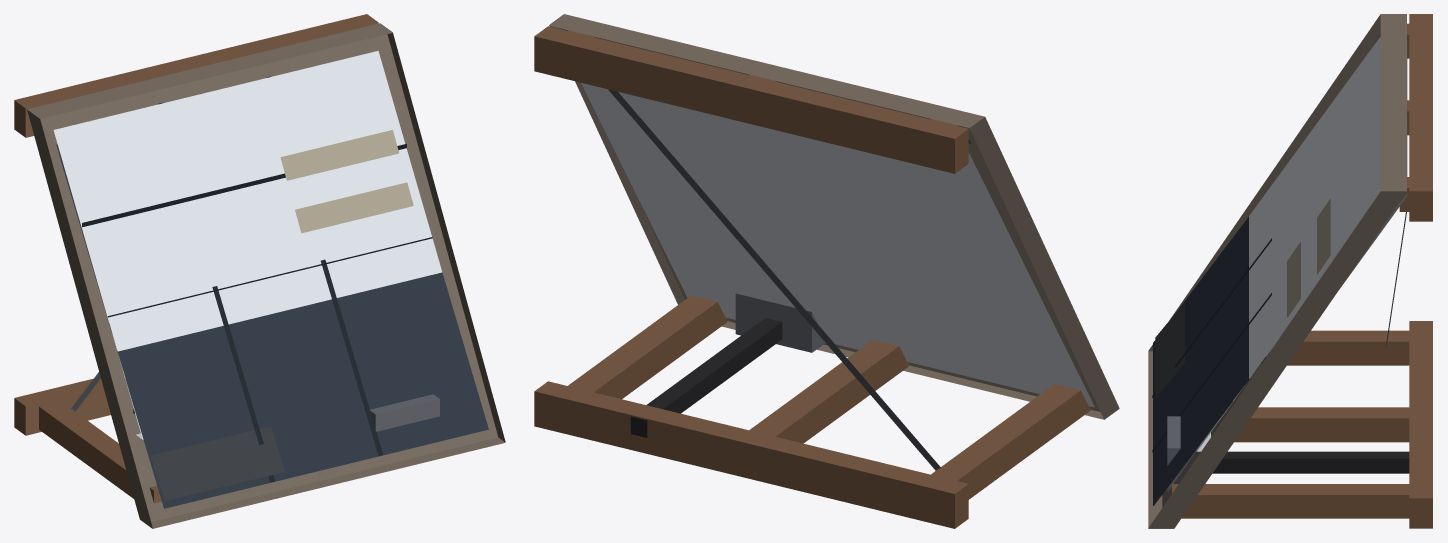
The model's file is array_ground_makeshift_snow_S.obj.
3 renders of one model, left to right at view 1: azimuth 30°, elevation 25°; view 2: azimuth 150°, elevation 25°; view 3: azimuth 270°, elevation 25°, orthographic. The views are drawn at different scales.
Visible parts, largest first — view 1: array_ground_makeshift_snow_S; view 2: array_ground_makeshift_snow_S; view 3: array_ground_makeshift_snow_S.
Part boxes in pixels (left/top/right/bottom): array_ground_makeshift_snow_S: left=14, top=14, right=505, bottom=528; array_ground_makeshift_snow_S: left=534, top=14, right=1119, bottom=528; array_ground_makeshift_snow_S: left=1148, top=14, right=1432, bottom=528.
Size of the model in its own units: 0.881 by 0.781 by 0.5989.
Materials: 1 (1 with a texture image).
